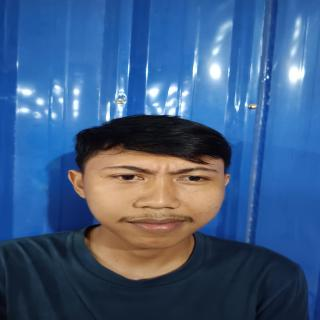Marah: (75, 141, 238, 253)
